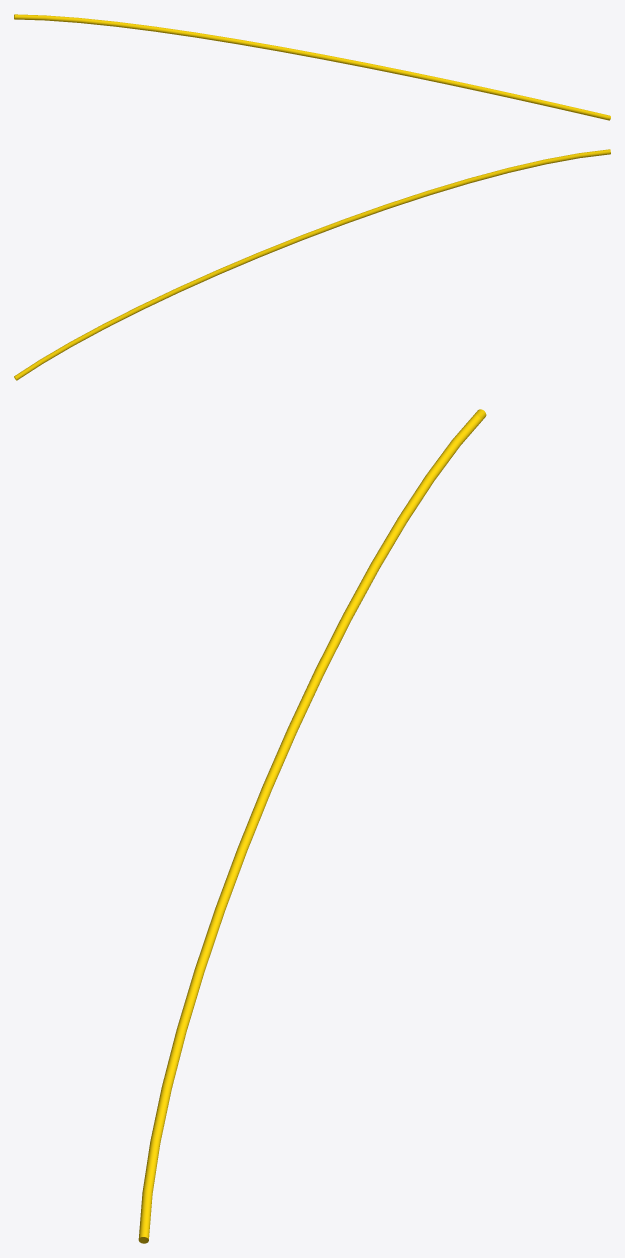
File: Event_421115418_track_192.fbx
3 renders of one model, top to bottom at view 1: azimuth 30°, elevation 25°; view 2: azimuth 210°, elevation 25°; view 3: azimuth 270°, elevation 25°, orthographic. The views are drawn at different scales.
Visible parts, largest first — view 1: Model; view 2: Model; view 3: Model.
Boxes of the visible parts, x1,y1,x2,y2 form: Model: (14, 14, 610, 120); Model: (14, 149, 610, 380); Model: (138, 409, 486, 1243).
Bounding box in the file's own units: 4.62 × 1.45 × 1.36.
